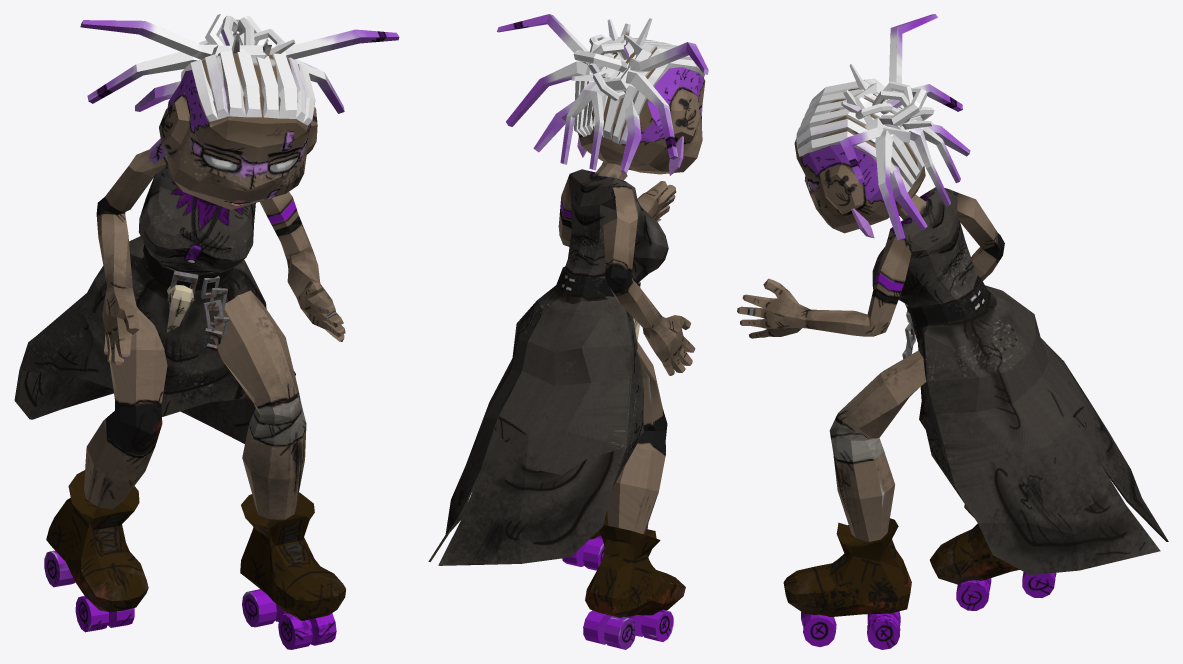
The model's file is bruja_000007.obj.
3 renders of one model, left to right at view 1: azimuth 30°, elevation 25°; view 2: azimuth 150°, elevation 25°; view 3: azimuth 270°, elevation 25°, orthographic. The views are drawn at different scales.
Visible parts, largest first — view 1: Bruja_Plane.001; view 2: Bruja_Plane.001; view 3: Bruja_Plane.001.
Part boxes in pixels (x1,y1,x2,y2): Bruja_Plane.001: [14, 14, 399, 649]; Bruja_Plane.001: [428, 14, 708, 649]; Bruja_Plane.001: [737, 14, 1168, 649].
Size of the model in its own units: 7.14 by 15.74 by 10.74.
